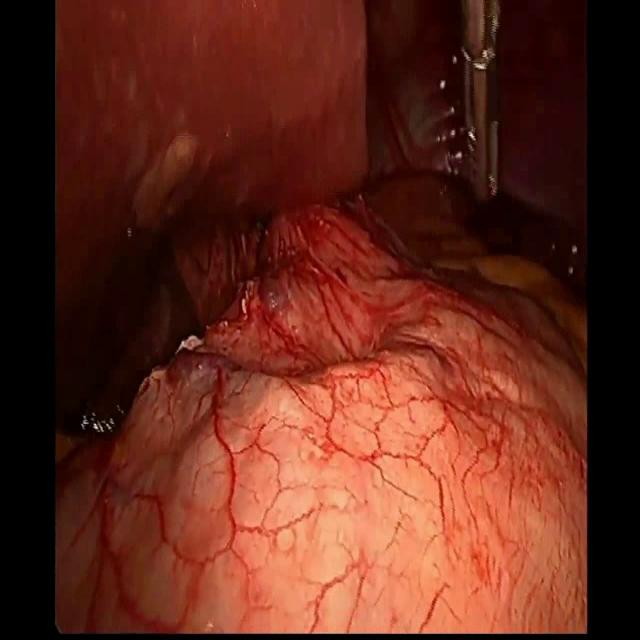surgical-area: (55, 0, 588, 633)
surgical-tool: (460, 0, 502, 206)
